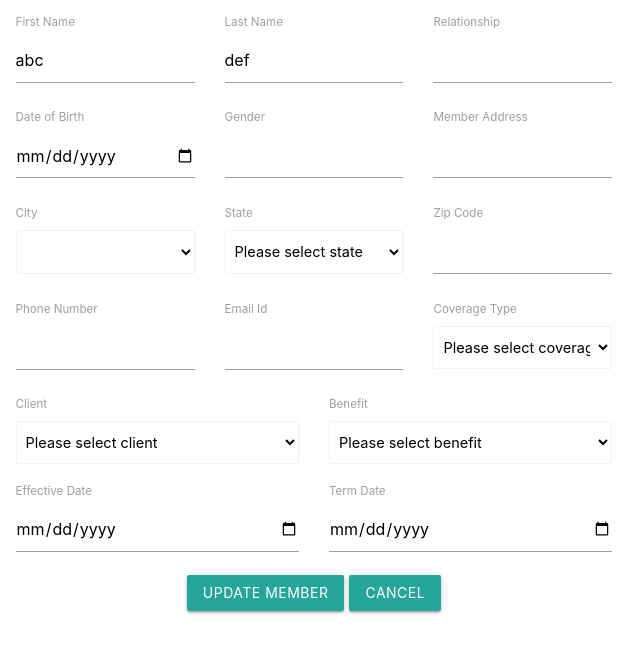
Test: AddUpdateMember › should throw error when emailid is incorrect
Type "abc123" into the field with id "emailId" at point(314, 348), box x1=224 y1=325 x2=403 y2=370
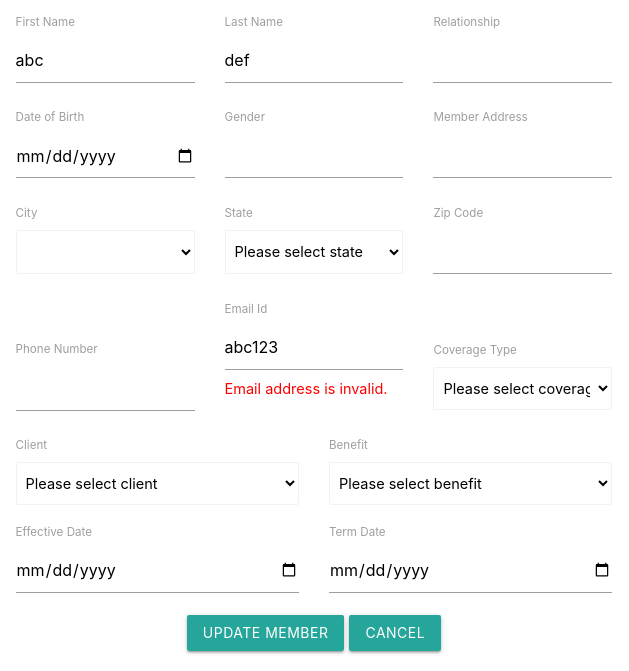
Check: the text "Email address is invalid." is shown, box x1=224 y1=380 x2=388 y2=397
